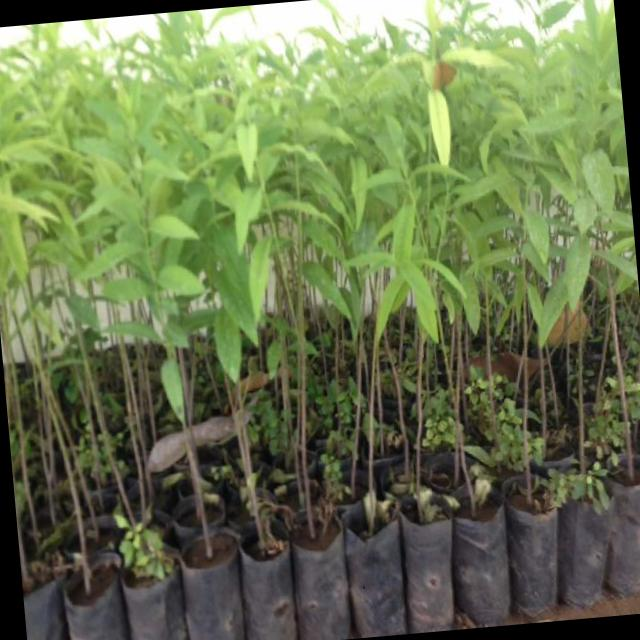Medicinal-Sandalwood: (0, 0, 640, 531)
